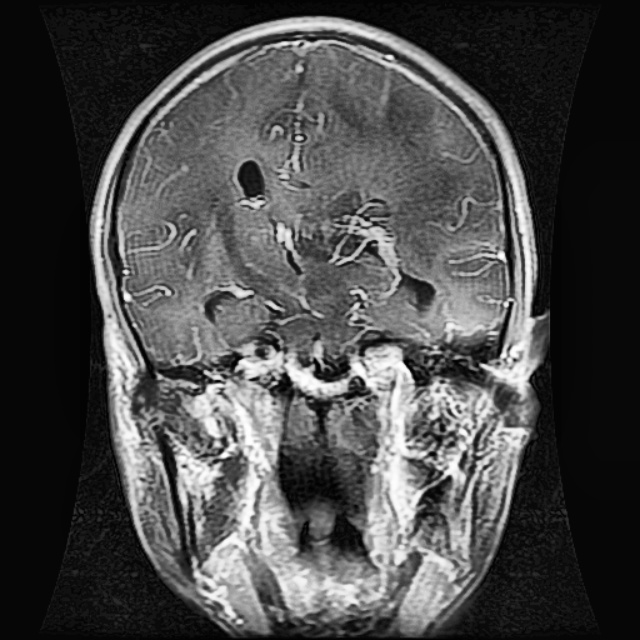Meningioma: (270, 195, 400, 289)
